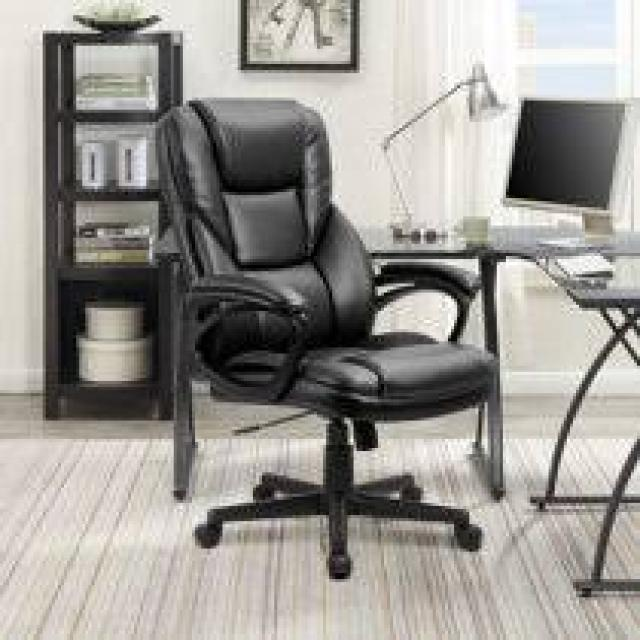chair: (99, 83, 534, 602)
